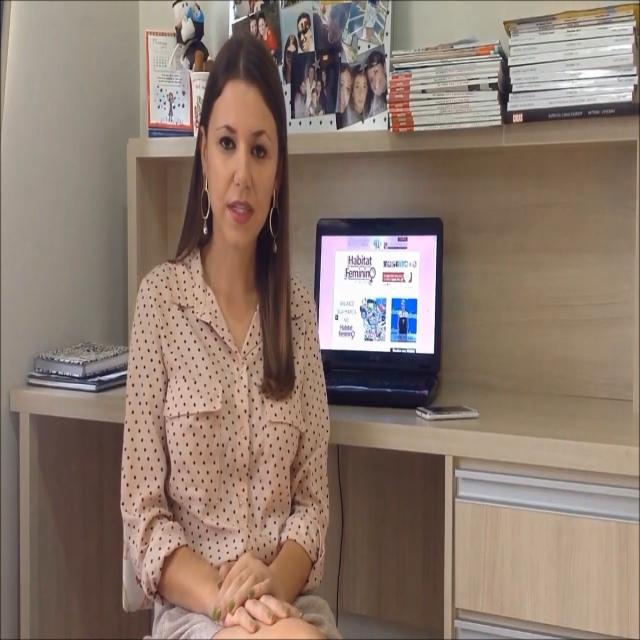Shirt: (119, 241, 331, 609)
